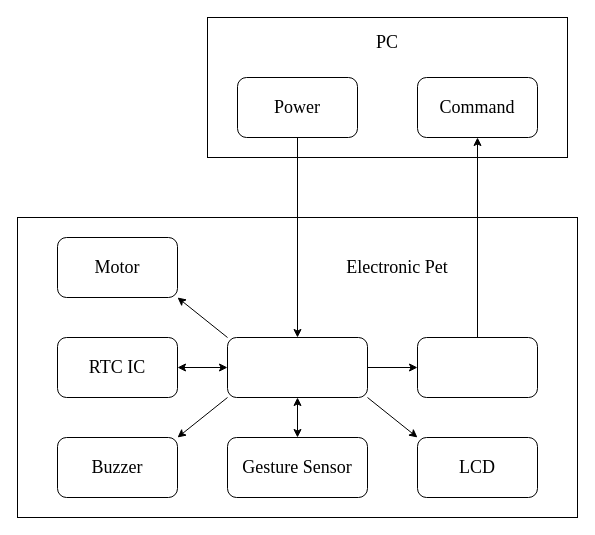
Some shapes in this 595 by 535 pixel diagram are drawn without their labels. Each missing label, with the centre of its shape:
"ATmega328PB" goes at [297,367].
"HID Board" goes at [477,367].
